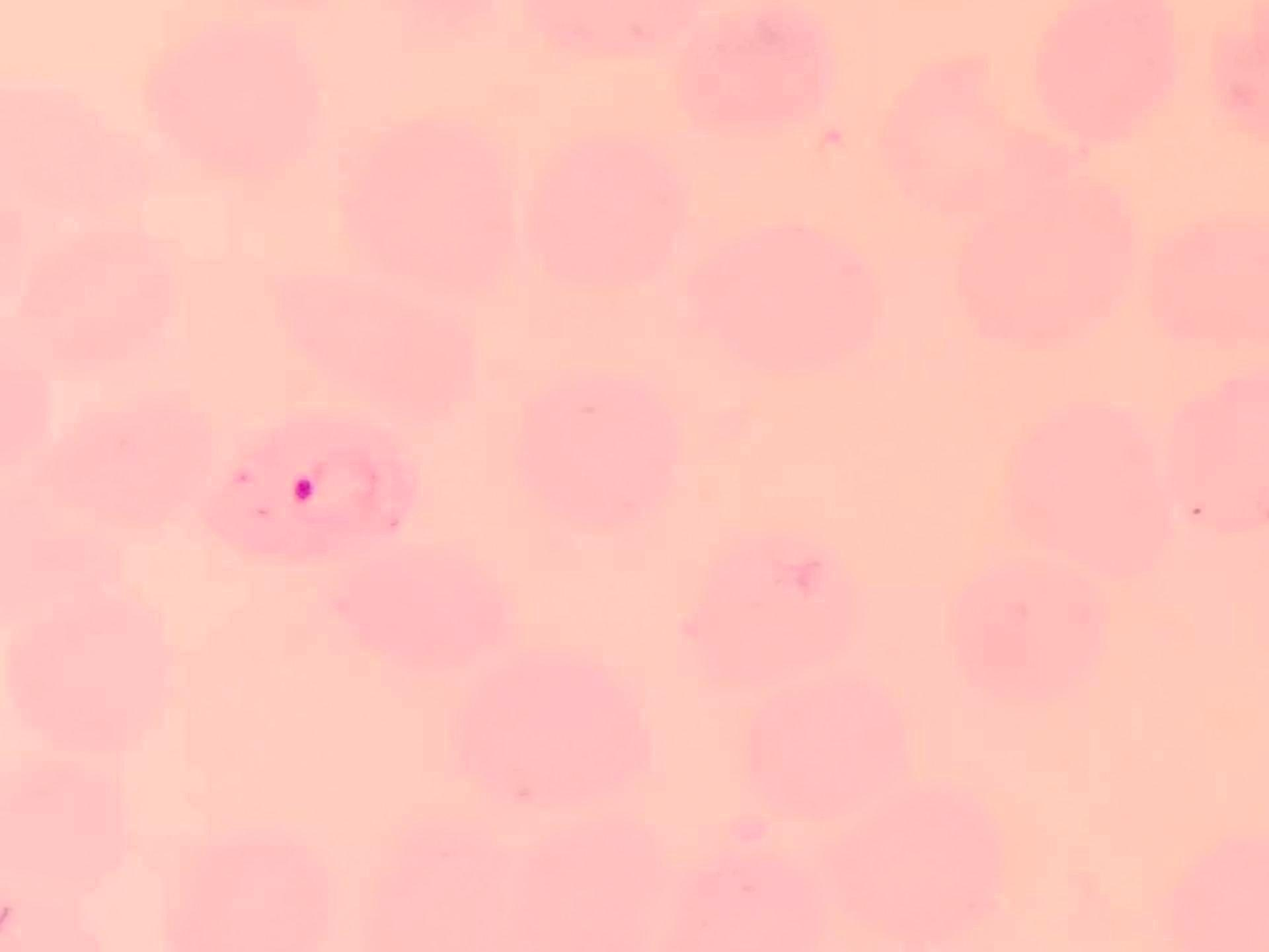Infected: (220, 417, 420, 548)
Uninfected: (0, 532, 171, 742), (345, 111, 527, 292), (273, 261, 475, 424), (884, 52, 1086, 205), (453, 648, 651, 802), (682, 222, 881, 374), (815, 778, 1005, 934), (139, 18, 316, 184), (525, 124, 692, 293), (958, 177, 1134, 337), (1011, 403, 1167, 577), (517, 362, 684, 524), (40, 384, 219, 526), (684, 532, 855, 679), (734, 673, 912, 814), (514, 808, 679, 951), (947, 552, 1105, 699), (332, 545, 512, 670), (352, 818, 519, 952), (25, 233, 183, 367), (173, 825, 332, 952), (1033, 0, 1180, 135), (1152, 377, 1269, 538), (676, 25, 832, 132), (1147, 213, 1269, 347), (676, 849, 819, 952)
